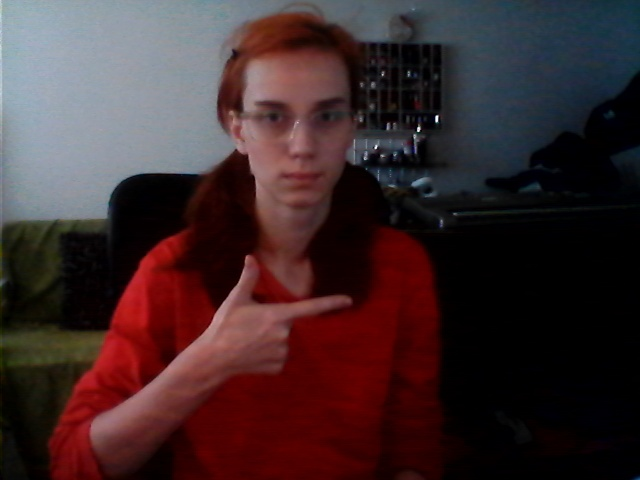dva_dve: (209, 255, 363, 384)
